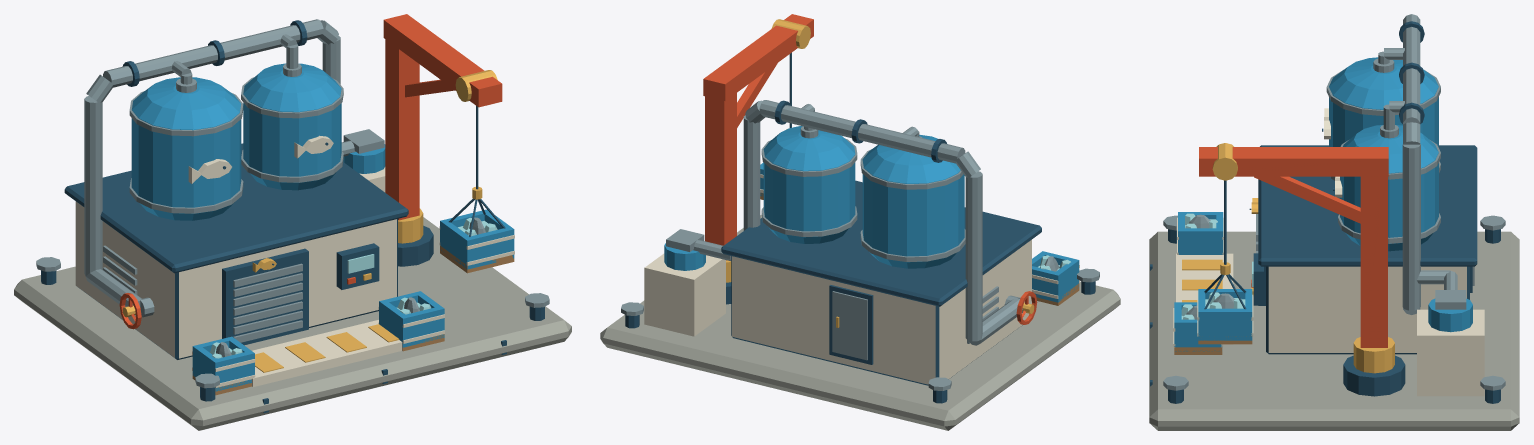
File: marine-plant-lv2.glb
3 views of the same model, side by side, from view 1: azimuth 30°, elevation 25°; view 2: azimuth 150°, elevation 25°; view 3: azimuth 270°, elevation 25° (orthographic). The views are drawn at different scales.
Visible parts, largest first — view 1: Plant_L2, Fish_Cargo.001, Valve_Wheel.001; view 2: Plant_L2, Valve_Wheel.001; view 3: Plant_L2, Fish_Cargo.001, Cargo_Slings.001.
Part boxes in pixels (x1=…): Plant_L2: x1=14, y1=14, x2=571, y2=430; Fish_Cargo.001: x1=439, y1=209, x2=514, y2=273; Valve_Wheel.001: x1=119, y1=293, x2=141, y2=329; Plant_L2: x1=600, y1=14, x2=1120, y2=430; Valve_Wheel.001: x1=1016, y1=291, x2=1037, y2=324; Plant_L2: x1=1149, y1=14, x2=1519, y2=430; Fish_Cargo.001: x1=1197, y1=289, x2=1253, y2=344; Cargo_Slings.001: x1=1204, y1=262, x2=1246, y2=309.
Size of the model in its own units: 5.5 by 3.6 by 4.65.
